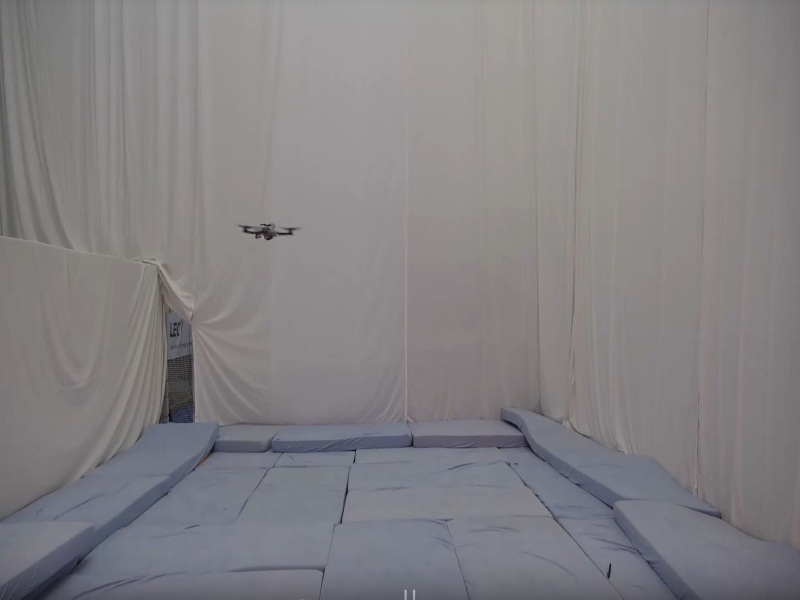drone: (234, 217, 305, 245)
